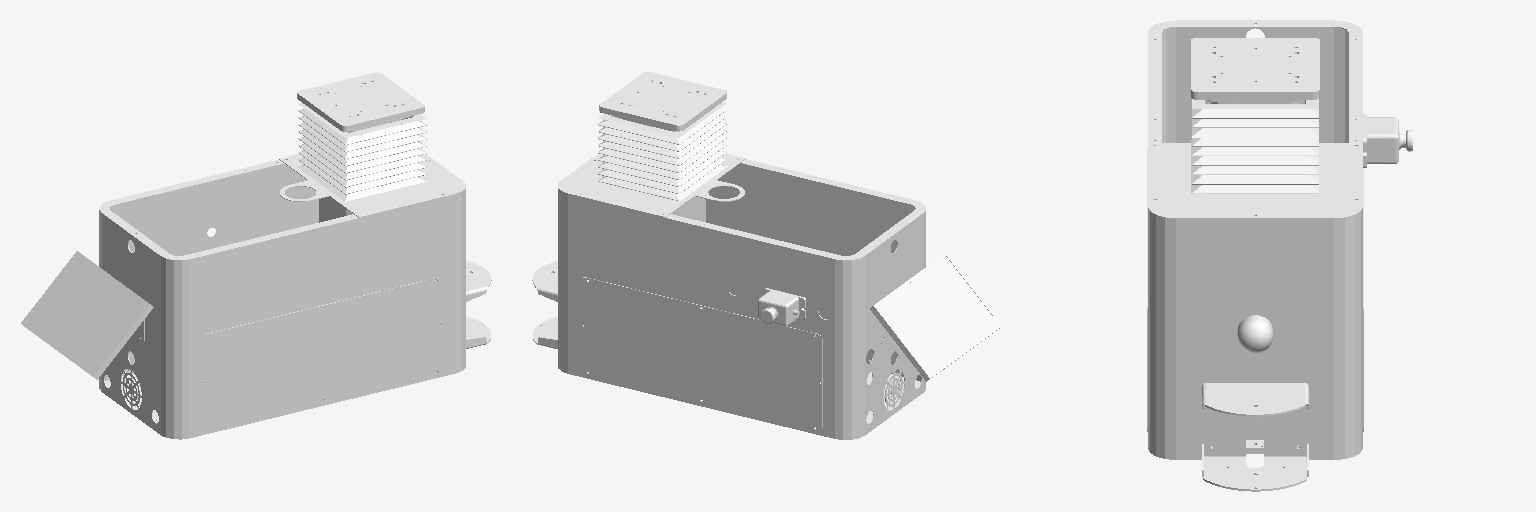
robot.urdf — c1997:
<?xml version="1.0" encoding="utf-8"?>
<!-- This URDF was automatically created by SolidWorks to URDF Exporter! Originally created by Stephen Brawner (brawner@gmail.com) 
     Commit Version: 1.6.0-4-g7f85cfe  Build Version: 1.6.7995.38578
     For more information, please see http://wiki.ros.org/sw_urdf_exporter -->
<robot
  name="c1997">
  <link
    name="base_link">
    <inertial>
      <origin
        xyz="-0.0084436 -0.00014279 -0.13705"
        rpy="0 0 0" />
      <mass
        value="34.513" />
      <inertia
        ixx="0.4033"
        ixy="-3.9974E-06"
        ixz="3.7991E-05"
        iyy="0.30179"
        iyz="-0.00014336"
        izz="0.53794" />
    </inertial>
    <visual>
      <origin
        xyz="0 0 0"
        rpy="0 0 0" />
      <geometry>
        <mesh
          filename="package://c1997/meshes/base_link.STL" />
      </geometry>
      <material
        name="">
        <color
          rgba="1 1 1 1" />
      </material>
    </visual>
    <collision>
      <origin
        xyz="0 0 0"
        rpy="0 0 0" />
      <geometry>
        <mesh
          filename="package://c1997/meshes/base_link.STL" />
      </geometry>
    </collision>
  </link>
  <link
    name="box_link">
    <inertial>
      <origin
        xyz="-0.08608 0.012247 0.19666"
        rpy="0 0 0" />
      <mass
        value="2.4411" />
      <inertia
        ixx="0.040527"
        ixy="-8.9336E-05"
        ixz="-0.0013967"
        iyy="0.09139"
        iyz="1.3077E-05"
        izz="0.088892" />
    </inertial>
    <visual>
      <origin
        xyz="0 0 0"
        rpy="0 0 0" />
      <geometry>
        <mesh
          filename="package://c1997/meshes/box_link.STL" />
      </geometry>
      <material
        name="">
        <color
          rgba="1 1 1 1" />
      </material>
    </visual>
    <collision>
      <origin
        xyz="0 0 0"
        rpy="0 0 0" />
      <geometry>
        <mesh
          filename="package://c1997/meshes/box_link.STL" />
      </geometry>
    </collision>
  </link>
  <joint
    name="box_joint"
    type="fixed">
    <origin
      xyz="0 0 0"
      rpy="0 0 0" />
    <parent
      link="base_link" />
    <child
      link="box_link" />
    <axis
      xyz="0 0 0" />
    <limit
      lower="0"
      upper="0"
      effort="0"
      velocity="0" />
  </joint>
  <link
    name="lifting_link">
    <inertial>
      <origin
        xyz="0.17383 0.0039882 0.28986"
        rpy="0 0 0" />
      <mass
        value="4.4737" />
      <inertia
        ixx="0.05035"
        ixy="-3.7408E-07"
        ixz="-0.00011997"
        iyy="0.050518"
        iyz="-9.6114E-07"
        izz="0.023585" />
    </inertial>
    <visual>
      <origin
        xyz="0 0 0"
        rpy="0 0 0" />
      <geometry>
        <mesh
          filename="package://c1997/meshes/lifting_link.STL" />
      </geometry>
      <material
        name="">
        <color
          rgba="1 1 1 1" />
      </material>
    </visual>
    <collision>
      <origin
        xyz="0 0 0"
        rpy="0 0 0" />
      <geometry>
        <mesh
          filename="package://c1997/meshes/lifting_link.STL" />
      </geometry>
    </collision>
  </link>
  <joint
    name="lifting_joint"
    type="fixed">
    <origin
      xyz="0 0 0"
      rpy="0 0 0" />
    <parent
      link="box_link" />
    <child
      link="lifting_link" />
    <axis
      xyz="0 0 0" />
  </joint>
</robot>

--- Render facts (derived) ---
Views: 3 orthographic renders of the robot side by side, from view 1: azimuth 30°, elevation 25°; view 2: azimuth 150°, elevation 25°; view 3: azimuth 270°, elevation 25°.
Model c1997 with 3 links and 2 joints (2 fixed), rooted at base_link, posed all joints at 0.
Visible links, largest first — view 1: box_link, lifting_link; view 2: box_link, lifting_link; view 3: box_link, lifting_link.
Link boxes in pixels (<box>): box_link: <box>21,154,491,439</box>; lifting_link: <box>297,72,426,222</box>; box_link: <box>532,153,1002,439</box>; lifting_link: <box>597,72,727,221</box>; box_link: <box>1147,20,1412,491</box>; lifting_link: <box>1191,38,1319,453</box>.
Size in the robot's own frame: 0.9237 by 0.3715 by 0.5355 metres.
2 mesh visuals loaded from 3 distinct referenced files (2 binary STL); not drawn: 1 (reference not matched to a file when rendering).
